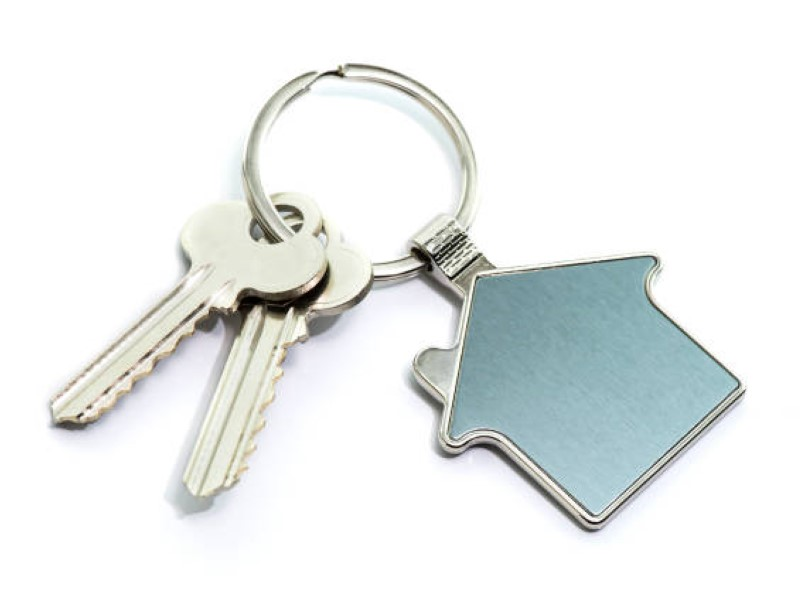key: (42, 187, 375, 502)
